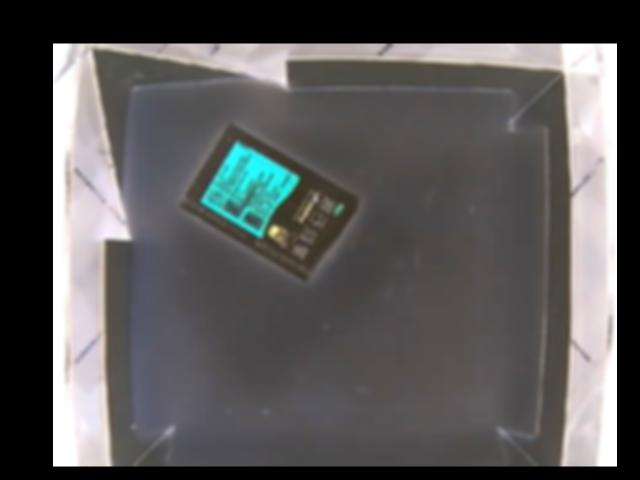Medicine: (178, 121, 363, 280)
